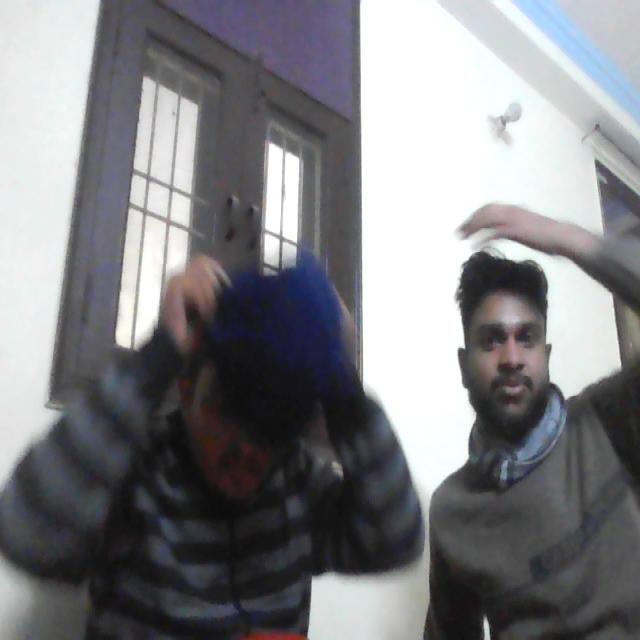real: (452, 237, 557, 436)
